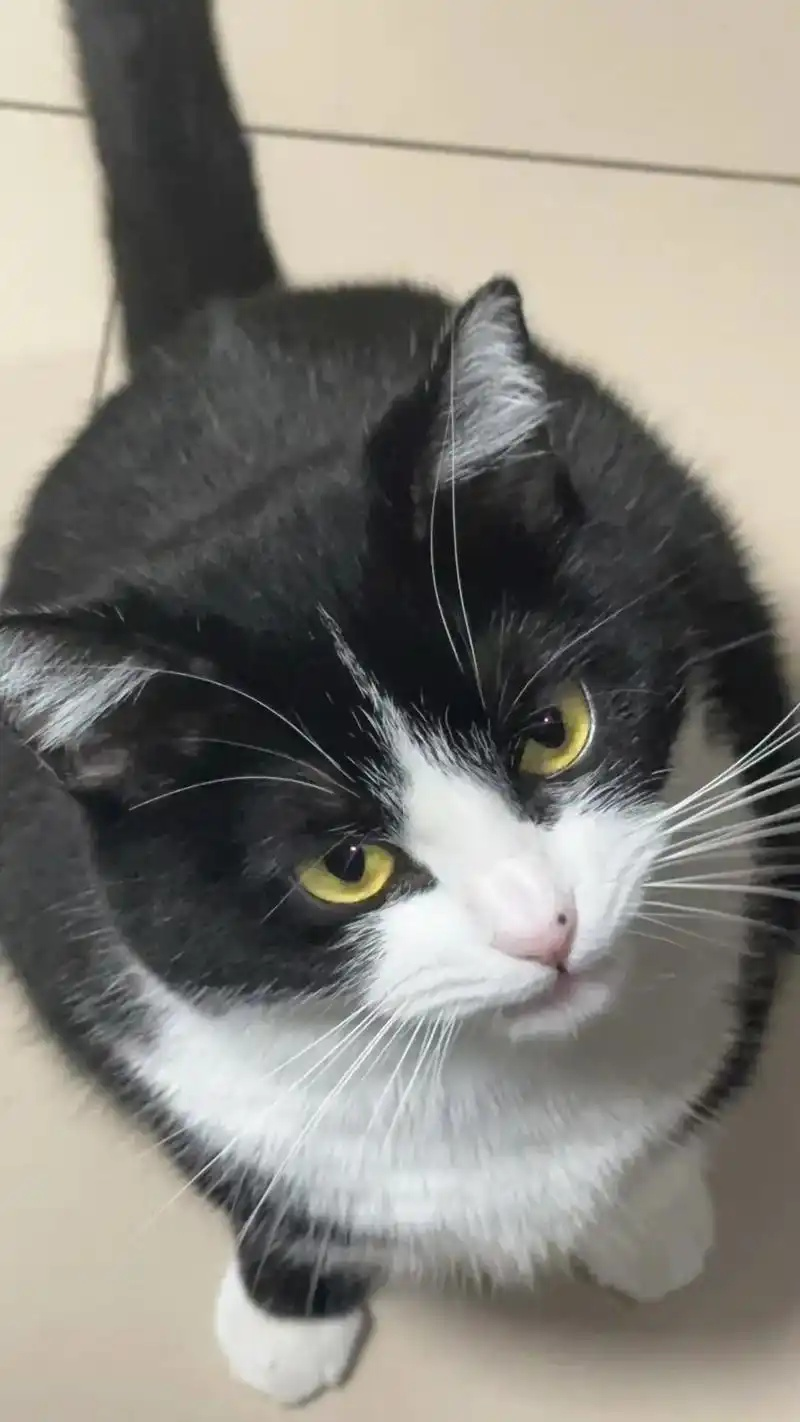奶牛猫: (4, 280, 783, 1074), (4, 629, 786, 1401)
